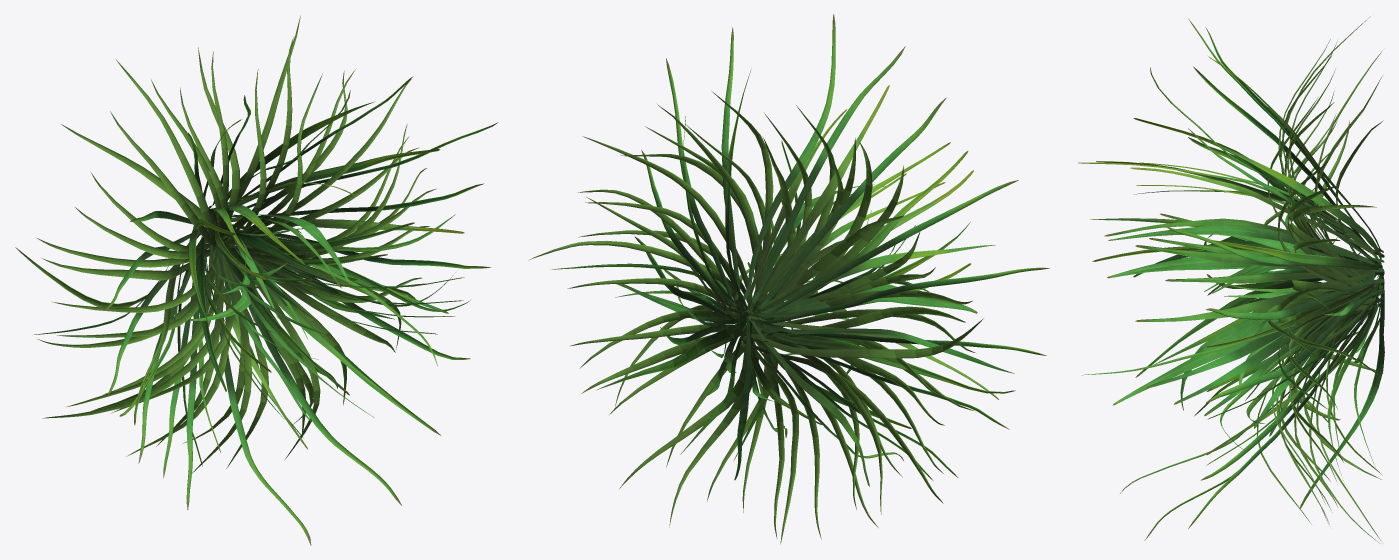
Rendered from Tuft of grass.obj.
3 renders of one model, left to right at view 1: azimuth 30°, elevation 25°; view 2: azimuth 150°, elevation 25°; view 3: azimuth 270°, elevation 25°, orthographic. The views are drawn at different scales.
Parts seen in each view (by area): view 1: Object.1; view 2: Object.1; view 3: Object.1.
Boxes of the visible parts, x1,y1,x2,y2 form: Object.1: (15, 15, 497, 545); Object.1: (528, 14, 1049, 544); Object.1: (1078, 16, 1384, 543).
Bounding box in the file's own units: 82.94 × 79.71 × 47.71.
Materials: 1 (1 with a texture image).
